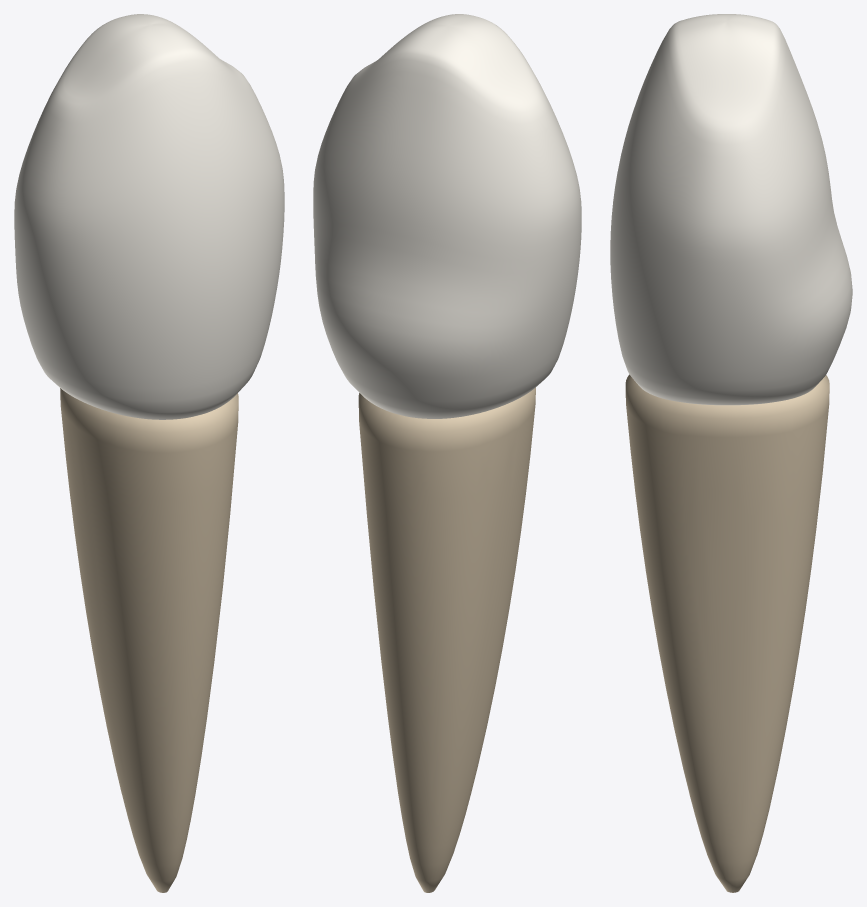
The model's file is canino_sup.glb.
The picture shows the model from 3 angles, left to right: view 1: azimuth 30°, elevation 25°; view 2: azimuth 150°, elevation 25°; view 3: azimuth 270°, elevation 25°; orthographic projection.
Parts seen in each view (by area): view 1: Corona, Raices; view 2: Corona, Raices; view 3: Corona, Raices.
Boxes of the visible parts, x1,y1,x2,y2 form: Corona: (14, 14, 284, 419); Raices: (60, 388, 238, 892); Corona: (313, 14, 581, 418); Raices: (358, 387, 535, 892); Corona: (610, 14, 852, 405); Raices: (625, 374, 829, 892).
Size of the model in its own units: 0.00781 by 0.0264 by 0.00671.
